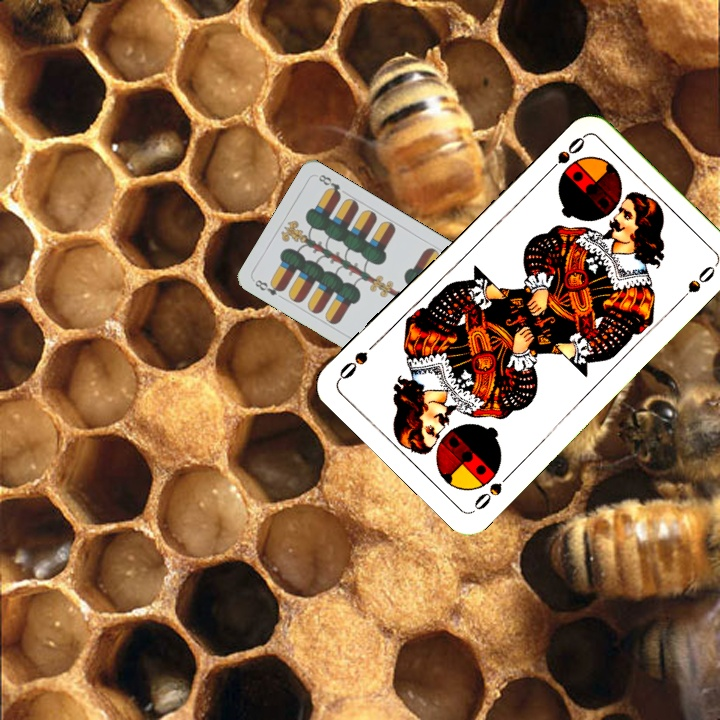E8: (251, 275, 286, 298)
SO: (541, 132, 588, 178), (469, 468, 515, 514)
